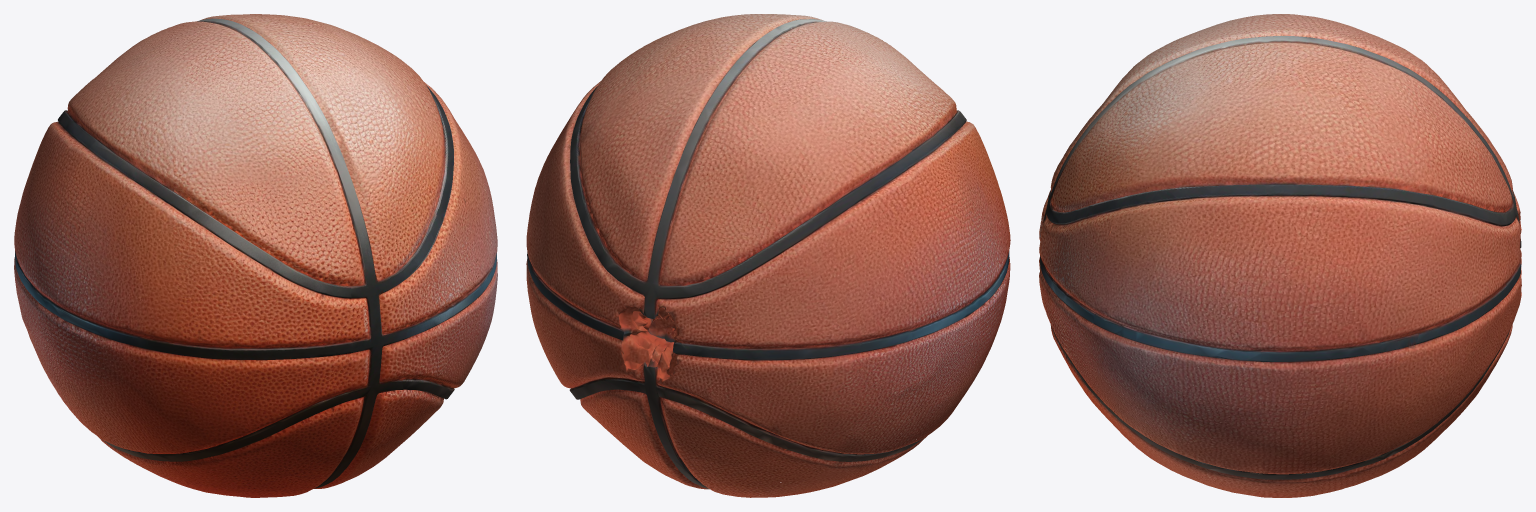
File: balon.glb
The picture shows the model from 3 angles, left to right: view 1: azimuth 30°, elevation 25°; view 2: azimuth 150°, elevation 25°; view 3: azimuth 270°, elevation 25°; orthographic projection.
Visible parts, largest first — view 1: tripo_node_68166915-e873-439a-a2f6-4448a884fbcd; view 2: tripo_node_68166915-e873-439a-a2f6-4448a884fbcd; view 3: tripo_node_68166915-e873-439a-a2f6-4448a884fbcd.
Part boxes in pixels (box(x1,y1,x2,y2)): tripo_node_68166915-e873-439a-a2f6-4448a884fbcd: box(14, 14, 497, 497); tripo_node_68166915-e873-439a-a2f6-4448a884fbcd: box(526, 14, 1010, 497); tripo_node_68166915-e873-439a-a2f6-4448a884fbcd: box(1039, 14, 1521, 497).
Size of the model in its own units: 0.9795 by 0.9771 by 0.9753.
Materials: 1 (1 with a texture image).
